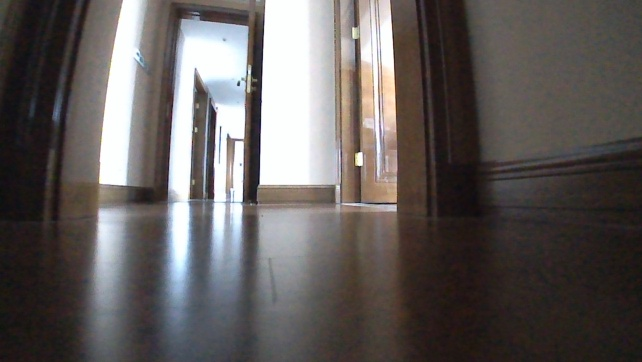door_anno: (239, 8, 262, 210)
